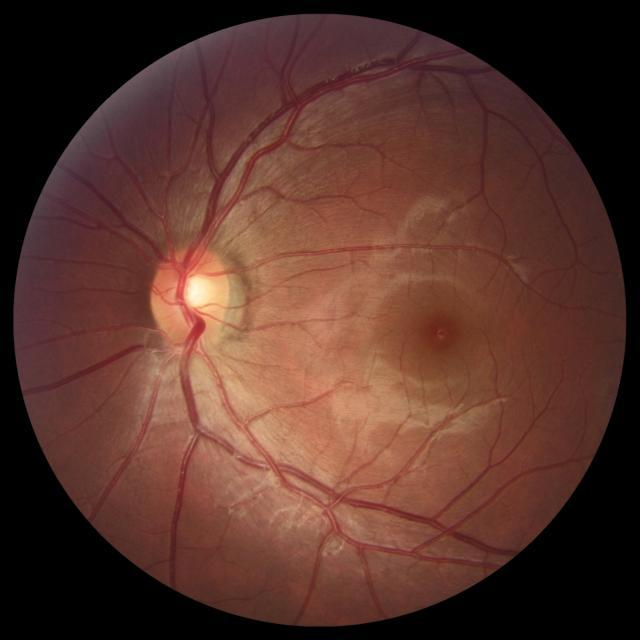OC: (174, 271, 213, 314)
OD: (151, 242, 232, 348)
